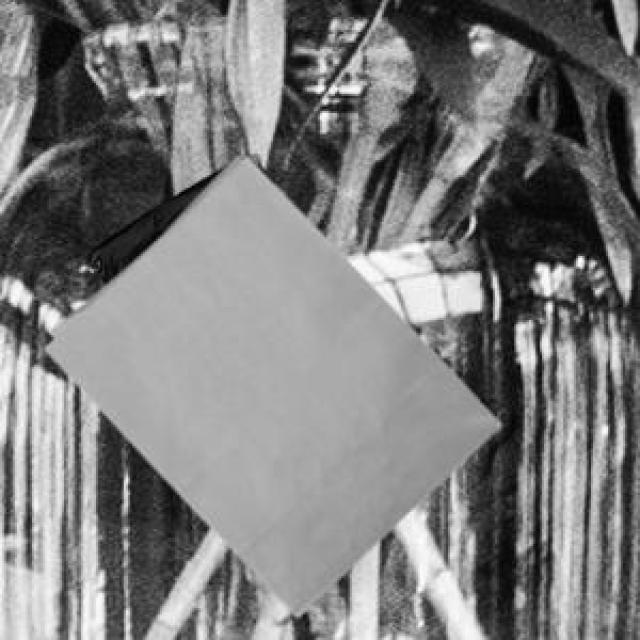miscellaneous trash: (83, 150, 277, 284)
paper: (41, 154, 495, 612)
